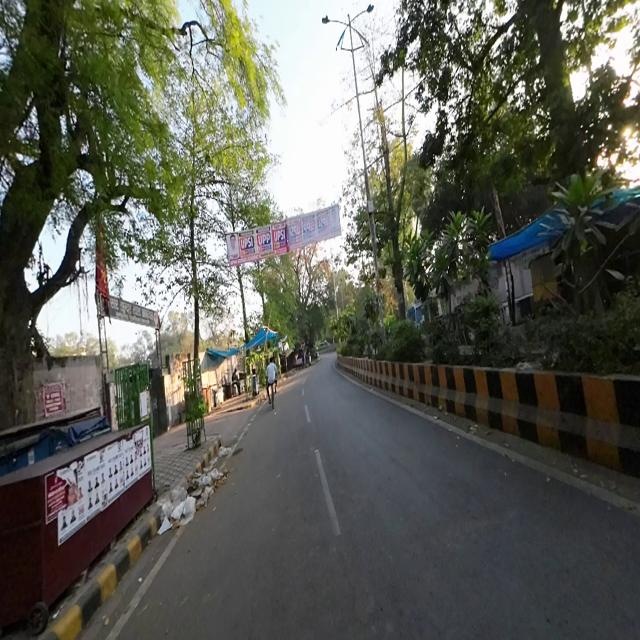Garbage: (159, 493, 199, 532), (188, 467, 222, 507), (217, 443, 232, 457)
